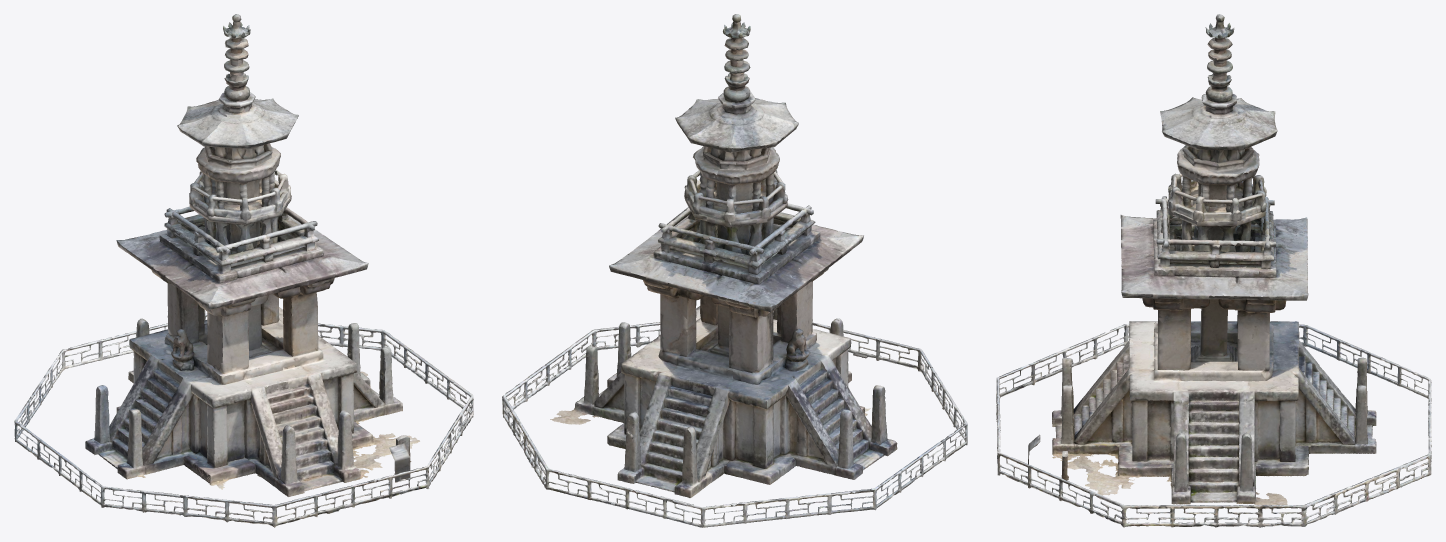
File: dabotap-khs-v1.glb
3 renders of one model, left to right at view 1: azimuth 30°, elevation 25°; view 2: azimuth 150°, elevation 25°; view 3: azimuth 270°, elevation 25°, orthographic.
Parts seen in each view (by area): view 1: dabotap; view 2: dabotap; view 3: dabotap.
Boxes of the visible parts, x1,y1,x2,y2 form: dabotap: [14, 14, 473, 527]; dabotap: [502, 14, 967, 527]; dabotap: [996, 14, 1431, 527].
Size of the model in its own units: 10.04 by 10.69 by 10.02.
1 material, 1 textured.
